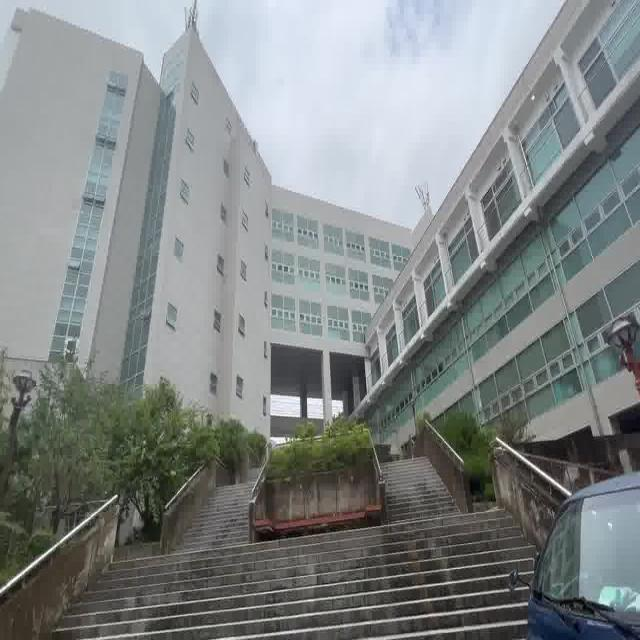building: (7, 25, 270, 383)
